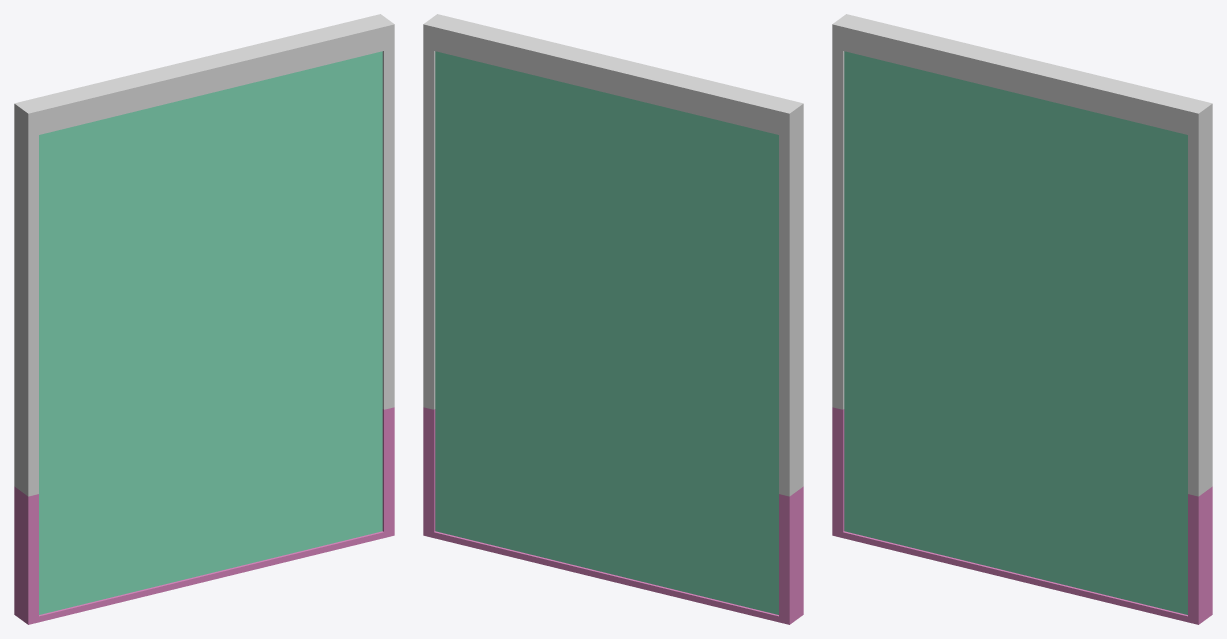
The model's file is WallOffice2.fbx.
3 renders of one model, left to right at view 1: azimuth 30°, elevation 25°; view 2: azimuth 150°, elevation 25°; view 3: azimuth 330°, elevation 25°, orthographic.
Parts seen in each view (by area): view 1: WallOffice2Glass, WallOffice2; view 2: WallOffice2Glass, WallOffice2; view 3: WallOffice2Glass, WallOffice2.
Part boxes in pixels (<box>): WallOffice2Glass: <box>39,51,382,614</box>; WallOffice2: <box>14,14,394,624</box>; WallOffice2Glass: <box>435,51,778,614</box>; WallOffice2: <box>423,14,803,624</box>; WallOffice2Glass: <box>844,51,1187,614</box>; WallOffice2: <box>832,14,1212,624</box>.
Bounding box in the file's own units: 3 × 4 × 0.2001.
